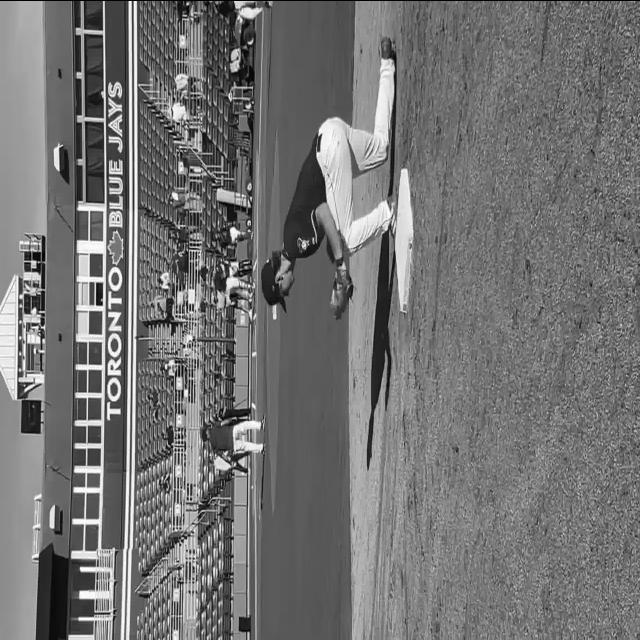base: (395, 167, 414, 311)
baseball_glove: (330, 262, 352, 318)
shoe: (386, 191, 398, 238), (380, 35, 396, 60)
